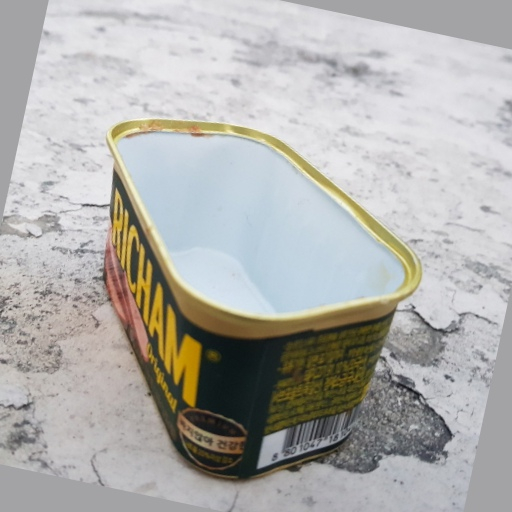Metal_2: (94, 113, 423, 479)
